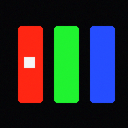1 square: (24, 57, 34, 67)
